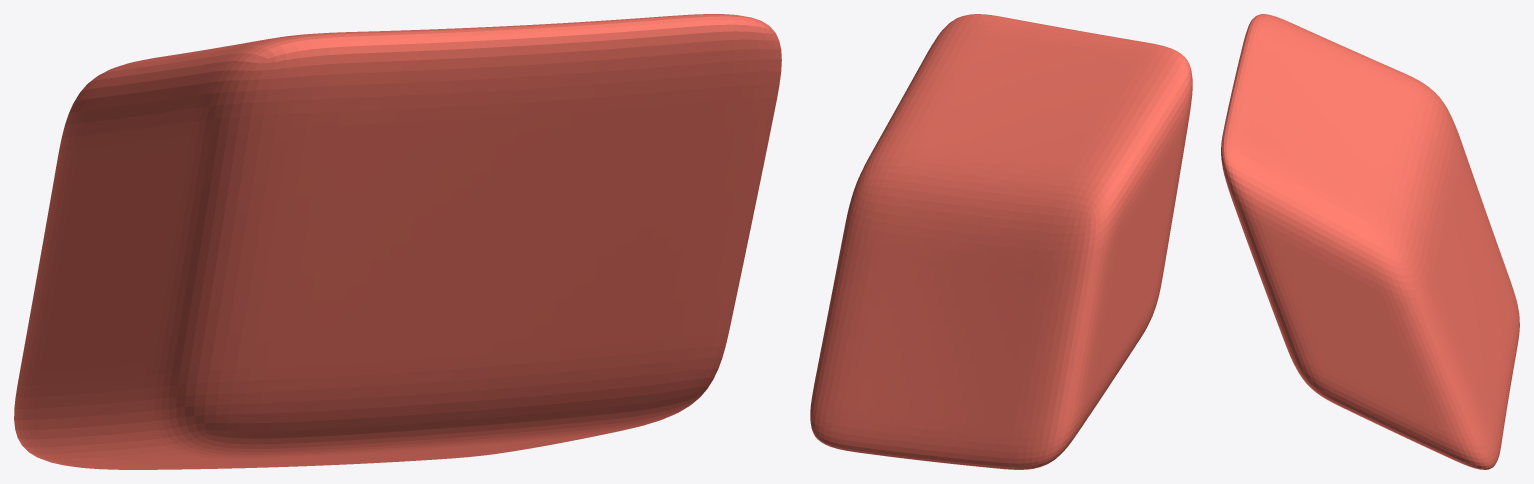
The picture shows the model from 3 angles, left to right: view 1: azimuth 30°, elevation 25°; view 2: azimuth 150°, elevation 25°; view 3: azimuth 270°, elevation 25°; orthographic projection. The views are drawn at different scales.
Parts seen in each view (by area): view 1: waves_1.029; view 2: waves_1.029; view 3: waves_1.029.
Part boxes in pixels (bbox=[...]): waves_1.029: bbox=[14, 14, 781, 469]; waves_1.029: bbox=[810, 14, 1192, 469]; waves_1.029: bbox=[1221, 14, 1519, 469].
Size of the model in its own units: 30.42 by 36.66 by 28.81.
